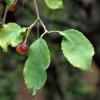Apple leaf: (22, 35, 51, 100), (57, 28, 97, 75), (0, 20, 29, 53)
